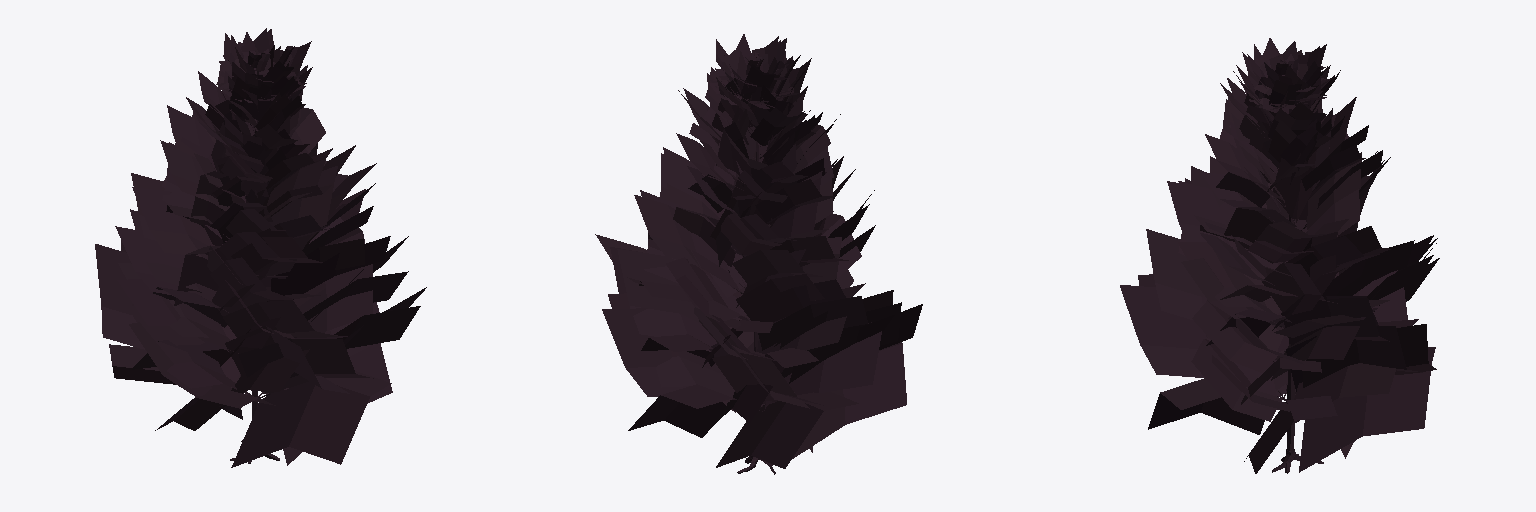
File: tree.obj
The picture shows the model from 3 angles: view 1: azimuth 30°, elevation 25°; view 2: azimuth 150°, elevation 25°; view 3: azimuth 270°, elevation 25°; orthographic projection.
Visible parts, largest first — view 1: Red_Spru; view 2: Red_Spru; view 3: Red_Spru.
Boxes of the visible parts, box(x1,y1,x2,y2) form: Red_Spru: box(95, 28, 426, 467); Red_Spru: box(595, 34, 922, 474); Red_Spru: box(1120, 38, 1439, 473).
Bounding box in the file's own units: 0.9021 × 1.28 × 0.8884.